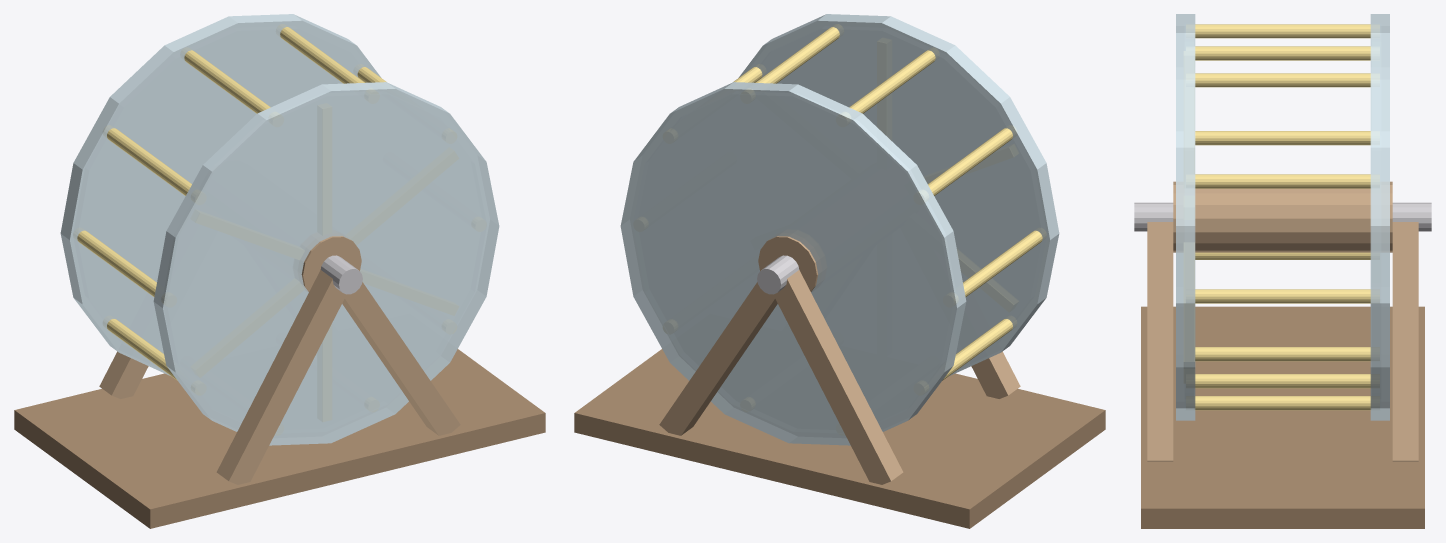
Rendered from BasicWheel.glb.
3 views of the same model, side by side, from view 1: azimuth 30°, elevation 25°; view 2: azimuth 150°, elevation 25°; view 3: azimuth 270°, elevation 25° (orthographic). The views are drawn at different scales.
Parts seen in each view (by area): view 1: BasicWheel_3, BasicWheel_0, BasicWheel_1, BasicWheel_5, BasicWheel_2; view 2: BasicWheel_3, BasicWheel_0, BasicWheel_1, BasicWheel_5, BasicWheel_2; view 3: BasicWheel_0, BasicWheel_5, BasicWheel_1, BasicWheel_3, BasicWheel_2.
Boxes of the visible parts, left/top/right/bottom form: BasicWheel_3: left=60, top=14, right=499, bottom=445; BasicWheel_0: left=14, top=349, right=545, bottom=528; BasicWheel_1: left=99, top=236, right=460, bottom=484; BasicWheel_5: left=77, top=27, right=386, bottom=380; BasicWheel_2: left=320, top=255, right=362, bottom=294; BasicWheel_3: left=620, top=14, right=1059, bottom=445; BasicWheel_0: left=574, top=349, right=1105, bottom=528; BasicWheel_1: left=659, top=236, right=1020, bottom=484; BasicWheel_5: left=733, top=27, right=1042, bottom=380; BasicWheel_2: left=757, top=255, right=799, bottom=294; BasicWheel_0: left=1141, top=306, right=1424, bottom=528; BasicWheel_5: left=1195, top=24, right=1370, bottom=410; BasicWheel_1: left=1147, top=181, right=1418, bottom=461; BasicWheel_3: left=1176, top=14, right=1389, bottom=420; BasicWheel_2: left=1134, top=202, right=1431, bottom=231.
Bounding box in the file's own units: 7.4 × 6.75 × 4.6.
